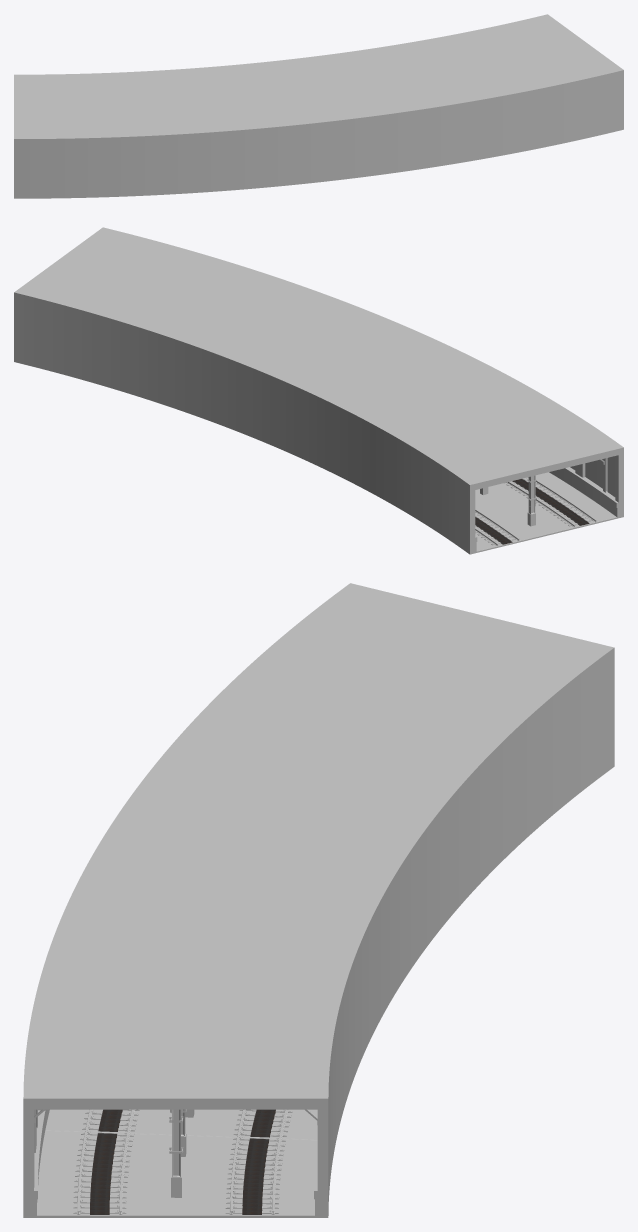
The model's file is SM_Tunnel_Turn_Long_B_L.fbx.
3 views of the same model, one above another, from view 1: azimuth 30°, elevation 25°; view 2: azimuth 150°, elevation 25°; view 3: azimuth 270°, elevation 25° (orthographic). The views are drawn at different scales.
Visible parts, largest first — view 1: SM_Tunnel_Turn_Long_B_L; view 2: SM_Tunnel_Turn_Long_B_L; view 3: SM_Tunnel_Turn_Long_B_L.
Part boxes in pixels (<box>): SM_Tunnel_Turn_Long_B_L: <box>14,14,623,198</box>; SM_Tunnel_Turn_Long_B_L: <box>14,227,623,554</box>; SM_Tunnel_Turn_Long_B_L: <box>23,583,614,1217</box>.
Size of the model in its own units: 4800 by 517 by 2325.
